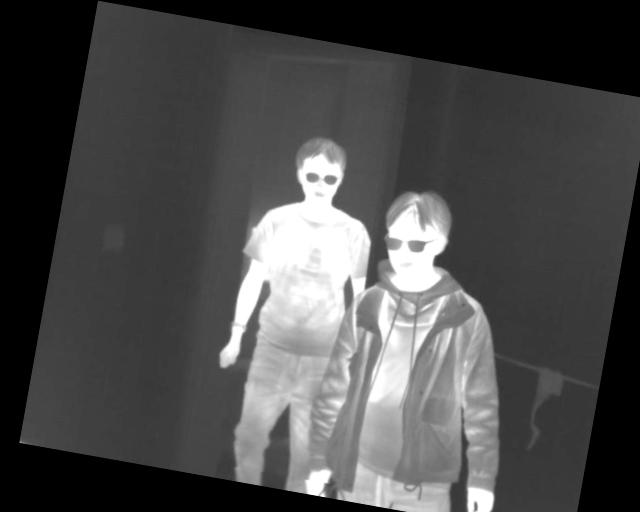face: (377, 182, 457, 282), (289, 132, 351, 211)
